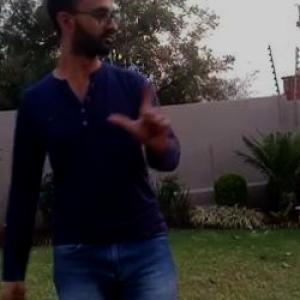land_hand: (103, 72, 175, 158)
